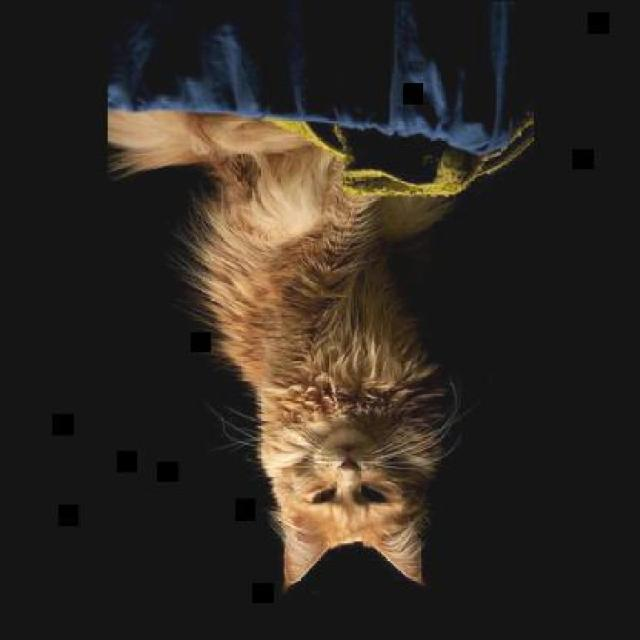unauthorized: (104, 97, 536, 592)
